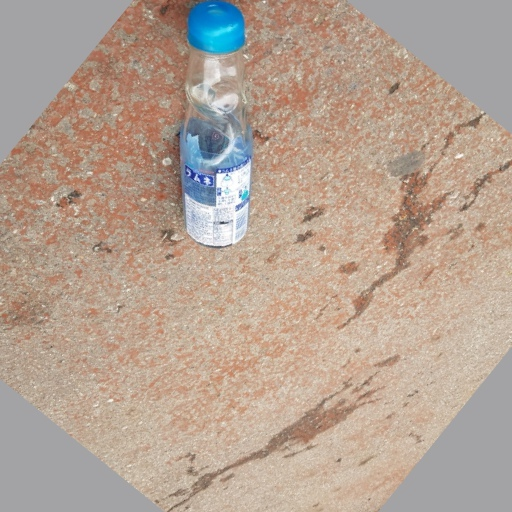Glass_4: (177, 2, 256, 247)
